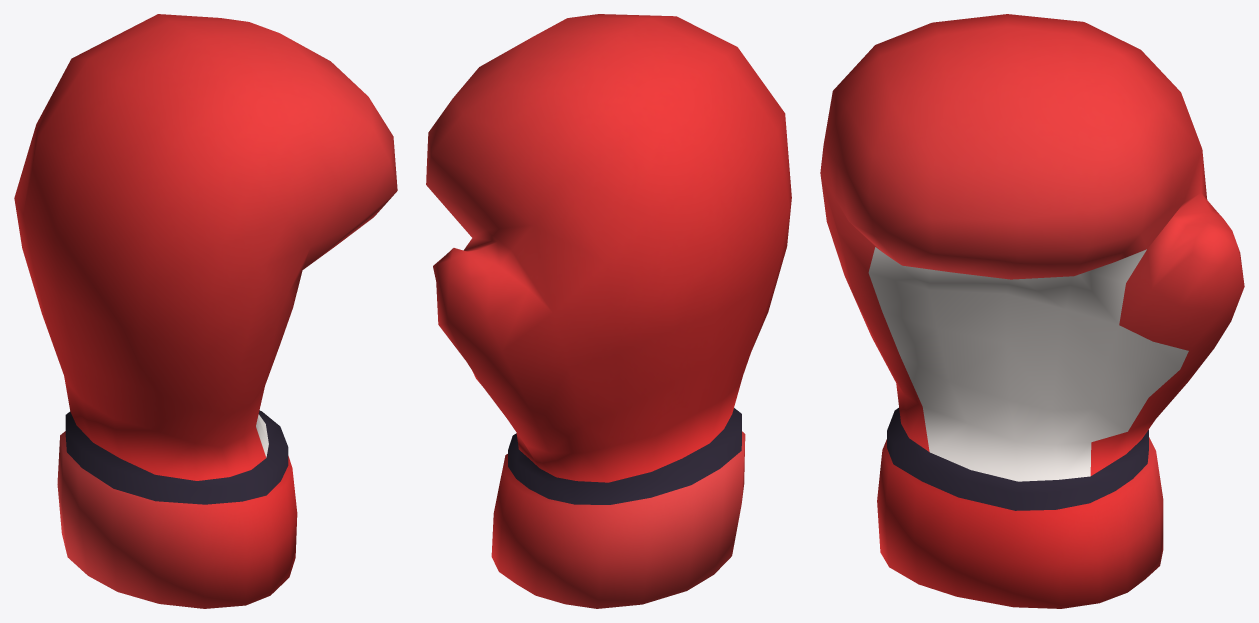
Rendered from Boxing Glove_R.FBX.
The picture shows the model from 3 angles, left to right: view 1: azimuth 30°, elevation 25°; view 2: azimuth 150°, elevation 25°; view 3: azimuth 270°, elevation 25°; orthographic projection. The views are drawn at different scales.
Parts seen in each view (by area): view 1: Boxing Glove_R; view 2: Boxing Glove_R; view 3: Boxing Glove_R.
Boxes of the visible parts, x1,y1,x2,y2 form: Boxing Glove_R: (14,14,397,608); Boxing Glove_R: (426,14,791,608); Boxing Glove_R: (820,14,1244,608).
Bounding box in the file's own units: 15.19 × 24.73 × 17.59.
